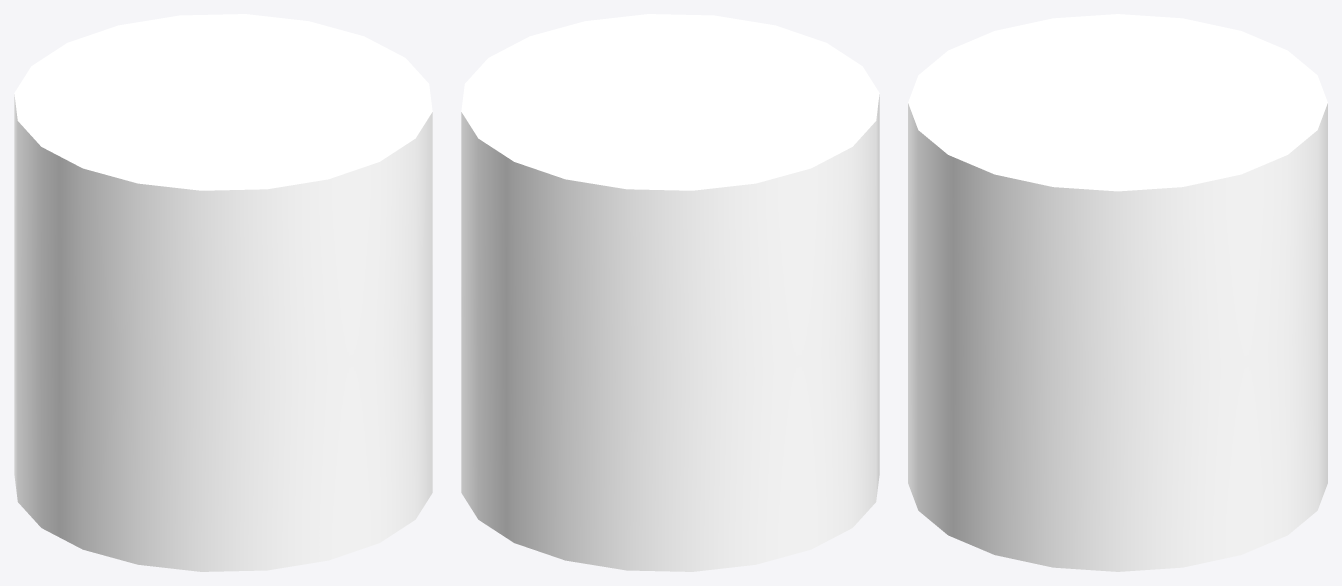
File: 41eed60c-8aeb-4dac-b7cd-b8e55ac867c2.glb
3 renders of one model, left to right at view 1: azimuth 30°, elevation 25°; view 2: azimuth 150°, elevation 25°; view 3: azimuth 270°, elevation 25°, orthographic.
Visible parts, largest first — view 1: BaseCylinder.009; view 2: BaseCylinder.009; view 3: BaseCylinder.009.
Boxes of the visible parts, x1=… form: BaseCylinder.009: x1=14, y1=14, x2=432, y2=571; BaseCylinder.009: x1=461, y1=14, x2=879, y2=571; BaseCylinder.009: x1=908, y1=14, x2=1327, y2=571.
Size of what is drawn, in the model's own units: 0.7489 by 0.7489 by 0.7489.
1 material, 1 textured.
